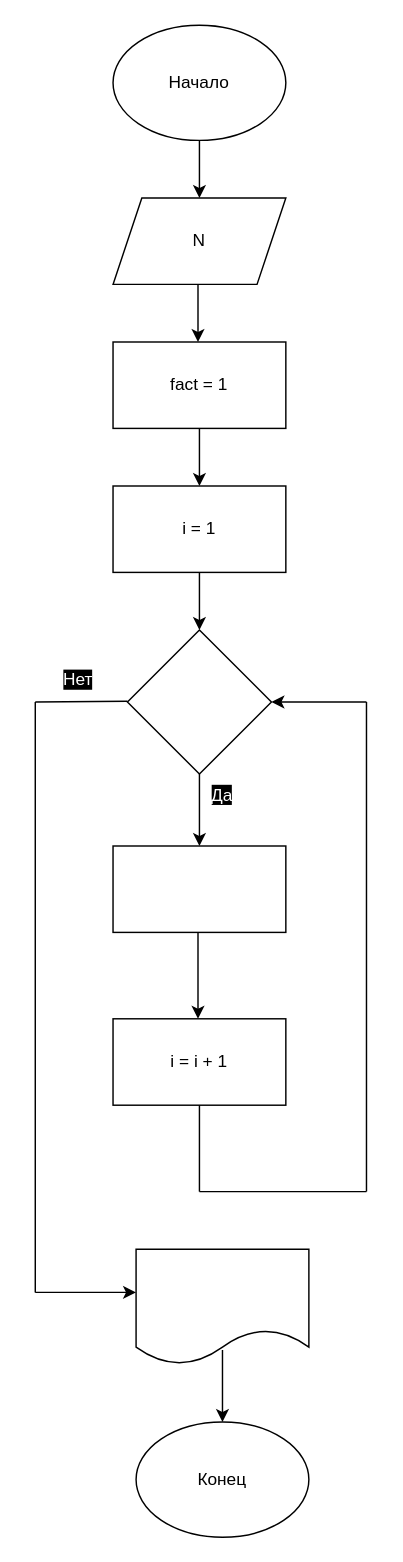
Image size: 403x1562. Some labels were removed from this diagram. Each missing label, with the centre of its shape:
fact: pixel 222 1306
fact = fact * i: pixel 199 888
i <= N: pixel 198 701
